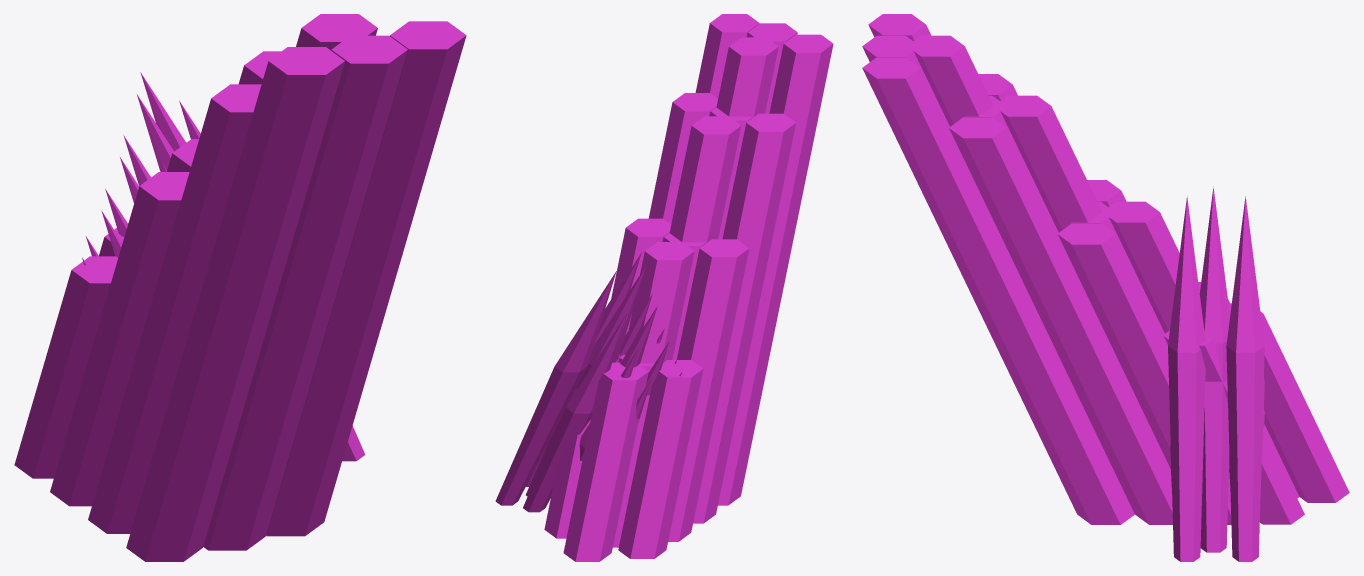
File: Crystal_MeshWall.fbx
3 views of the same model, side by side, from view 1: azimuth 30°, elevation 25°; view 2: azimuth 150°, elevation 25°; view 3: azimuth 270°, elevation 25° (orthographic). The views are drawn at different scales.
Parts seen in each view (by area): view 1: Wall_1_Layered, Wall_1_Unlayered, Wall_2_Layered, Wall_2_Unlayered; view 2: Wall_1_Layered, Wall_2_Layered, Wall_1_Unlayered; view 3: Wall_1_Layered, Wall_2_Layered, Wall_1_Unlayered.
Boxes of the visible parts, left/top/right/bottom form: Wall_1_Layered: left=14, top=14, right=466, bottom=561; Wall_1_Unlayered: left=203, top=35, right=407, bottom=550; Wall_2_Layered: left=82, top=72, right=365, bottom=461; Wall_2_Unlayered: left=82, top=94, right=173, bottom=264; Wall_1_Layered: left=544, top=14, right=833, bottom=561; Wall_2_Layered: left=495, top=252, right=682, bottom=512; Wall_1_Unlayered: left=613, top=23, right=797, bottom=547; Wall_1_Layered: left=862, top=14, right=1349, bottom=524; Wall_2_Layered: left=1168, top=186, right=1264, bottom=561; Wall_1_Unlayered: left=862, top=35, right=1299, bottom=498.
Bounding box in the file's own units: 36.86 × 18.13 × 37.25.
